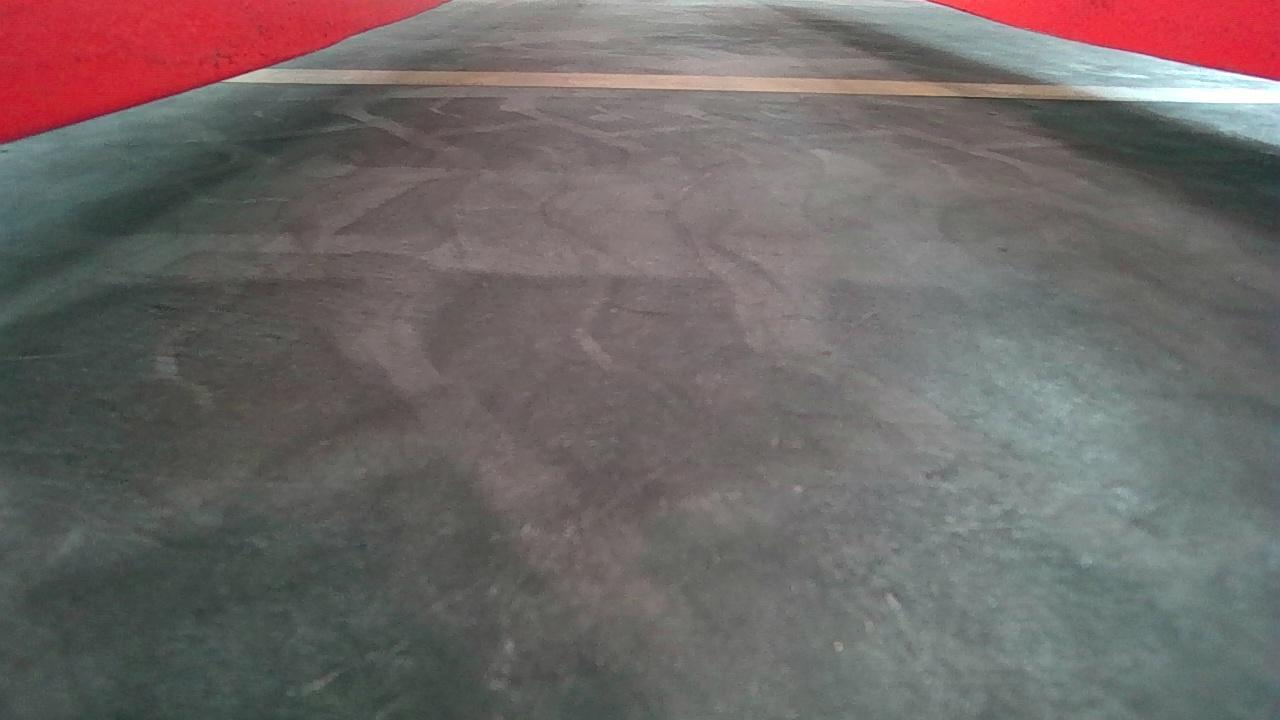yellow_line: (224, 65, 1276, 102)
